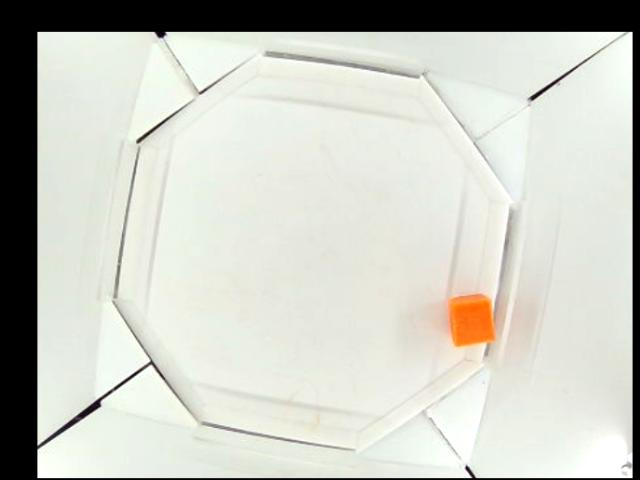Carrot: (446, 294, 498, 347)
